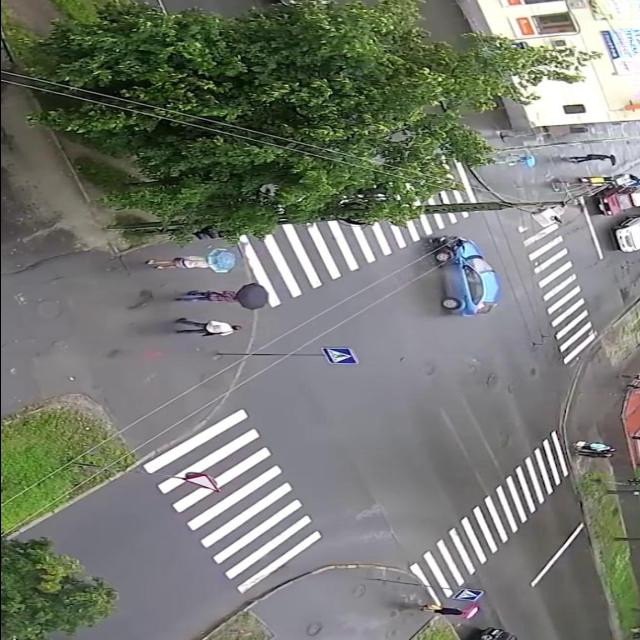accident: (419, 225, 506, 320)
